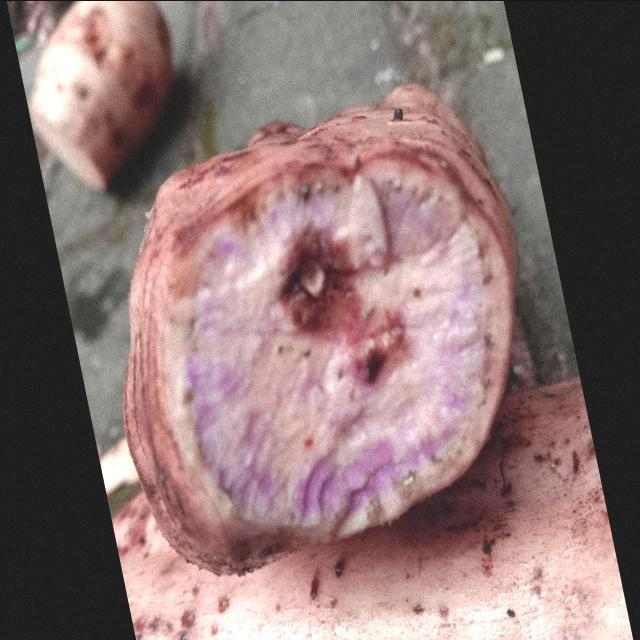Sick Sweet Potato_Tuber Rot: (165, 158, 514, 540)
